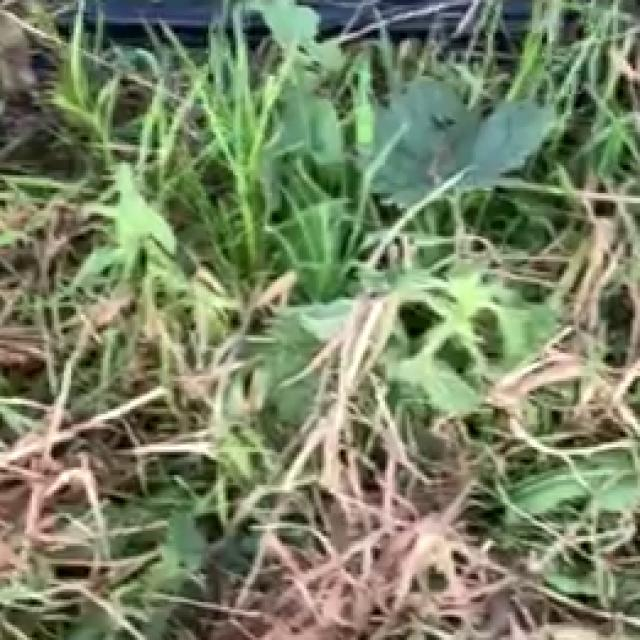organic waste: (336, 2, 623, 328)
